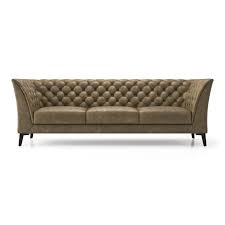3seatersofa: (14, 79, 211, 145)
base: (28, 124, 191, 134)
leftarmrest: (188, 79, 212, 132)
leg: (191, 133, 204, 146), (18, 133, 32, 145)
rightarmrest: (13, 79, 40, 135)
seat: (34, 106, 191, 124)
